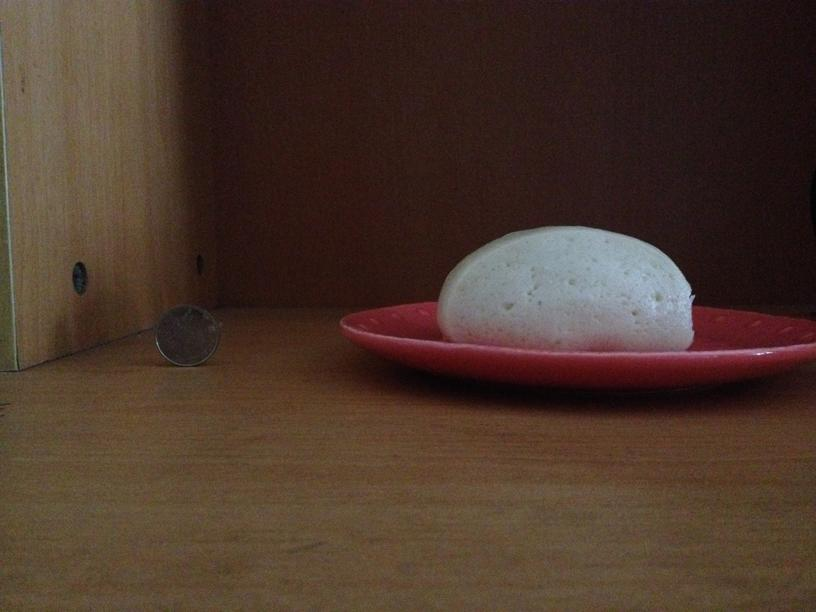bun: (433, 229, 694, 349)
coin: (151, 300, 223, 363)
